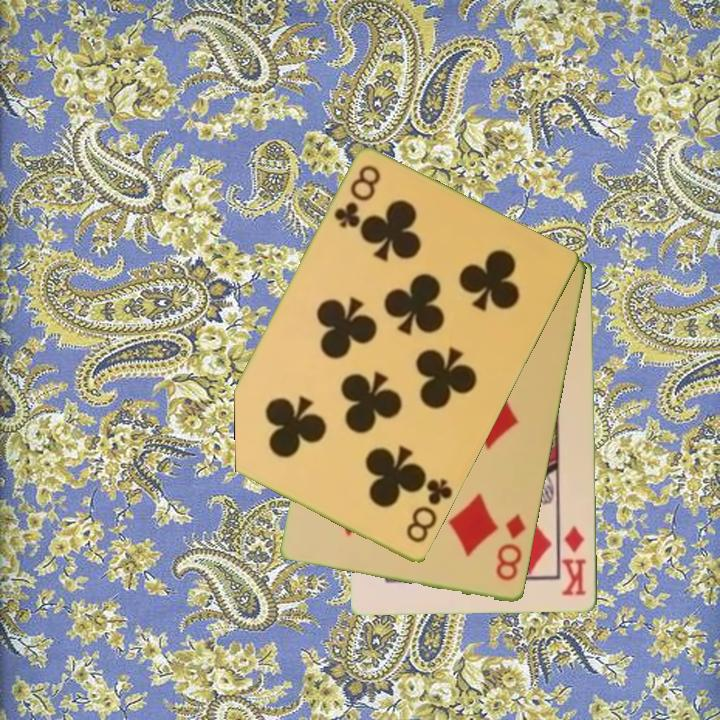8c: (403, 474, 456, 547), (330, 162, 384, 232)
8d: (493, 510, 529, 585)
Kd: (559, 522, 590, 599)
